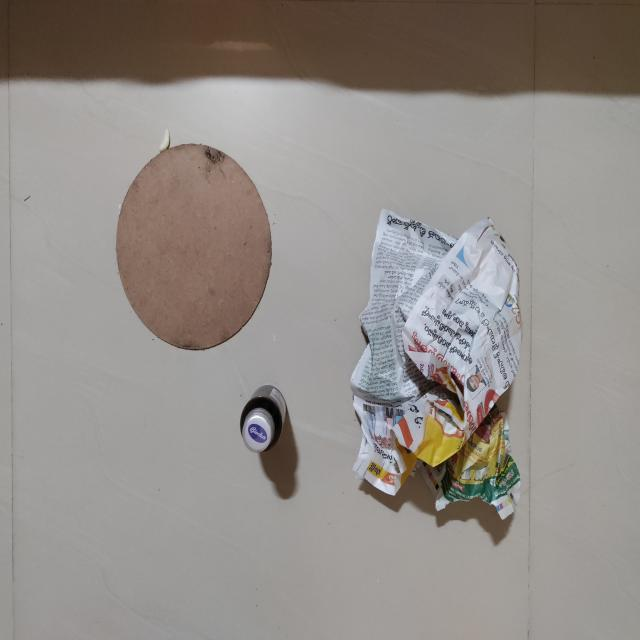paper: (353, 207, 518, 541), (116, 143, 272, 349)
plastic: (239, 382, 287, 454)
